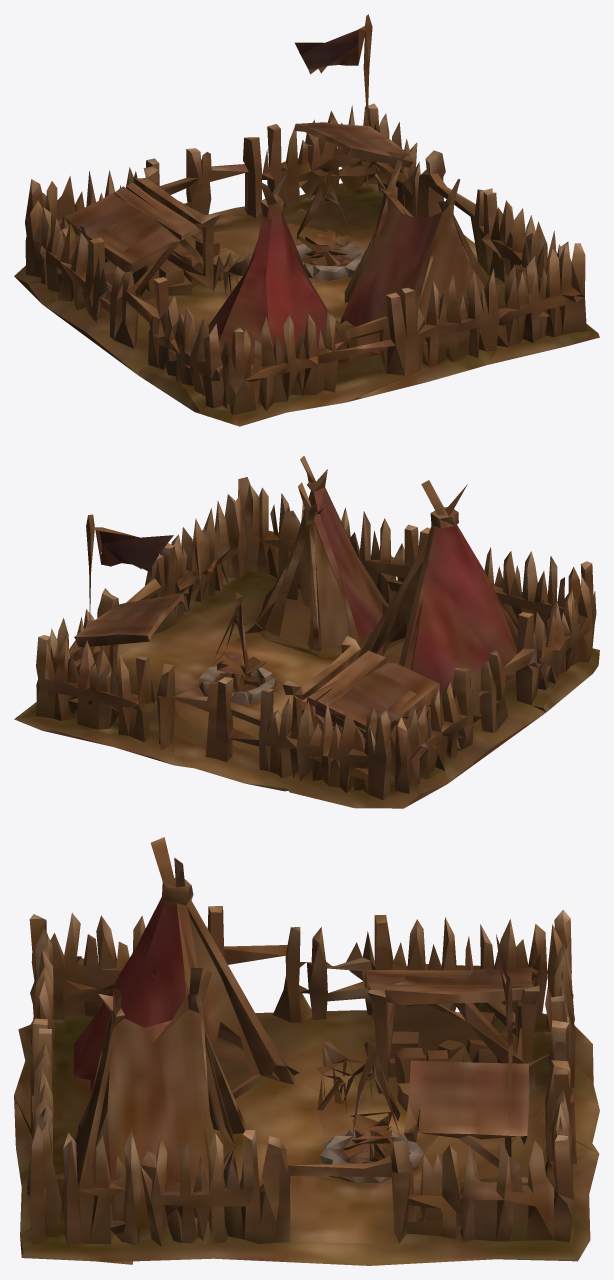
The model's file is bandit_camp.lod2.glb.
3 views of the same model, one above another, from view 1: azimuth 30°, elevation 25°; view 2: azimuth 150°, elevation 25°; view 3: azimuth 270°, elevation 25° (orthographic). The views are drawn at different scales.
Visible parts, largest first — view 1: bandit_camp.lod2_uv; view 2: bandit_camp.lod2_uv; view 3: bandit_camp.lod2_uv.
Part boxes in pixels (x1=…): bandit_camp.lod2_uv: x1=14, y1=14, x2=599, y2=426; bandit_camp.lod2_uv: x1=14, y1=456, x2=599, y2=808; bandit_camp.lod2_uv: x1=14, y1=837, x2=599, y2=1265.
Bounding box in the file's own units: 1.9 × 0.912 × 1.88.
Materials: 1 (1 with a texture image).
